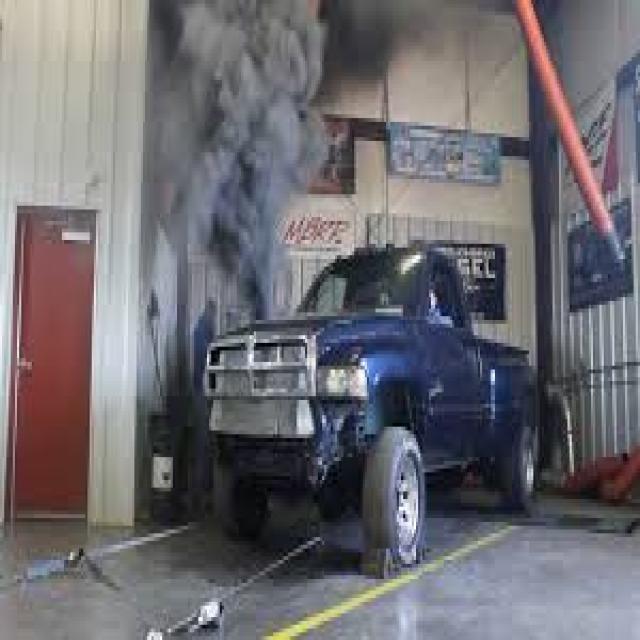Smoke: (144, 0, 379, 308)
